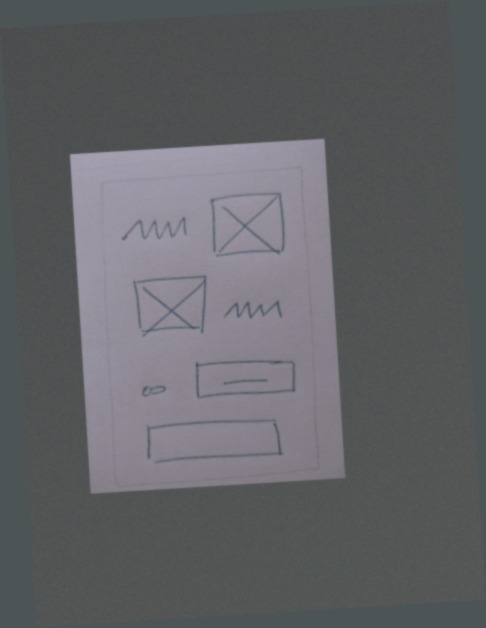button: (188, 346, 305, 407)
image: (126, 268, 211, 342), (205, 188, 290, 262)
switch: (133, 378, 174, 401)
text: (114, 209, 198, 249), (216, 291, 292, 328)
text_input: (137, 409, 289, 469)
